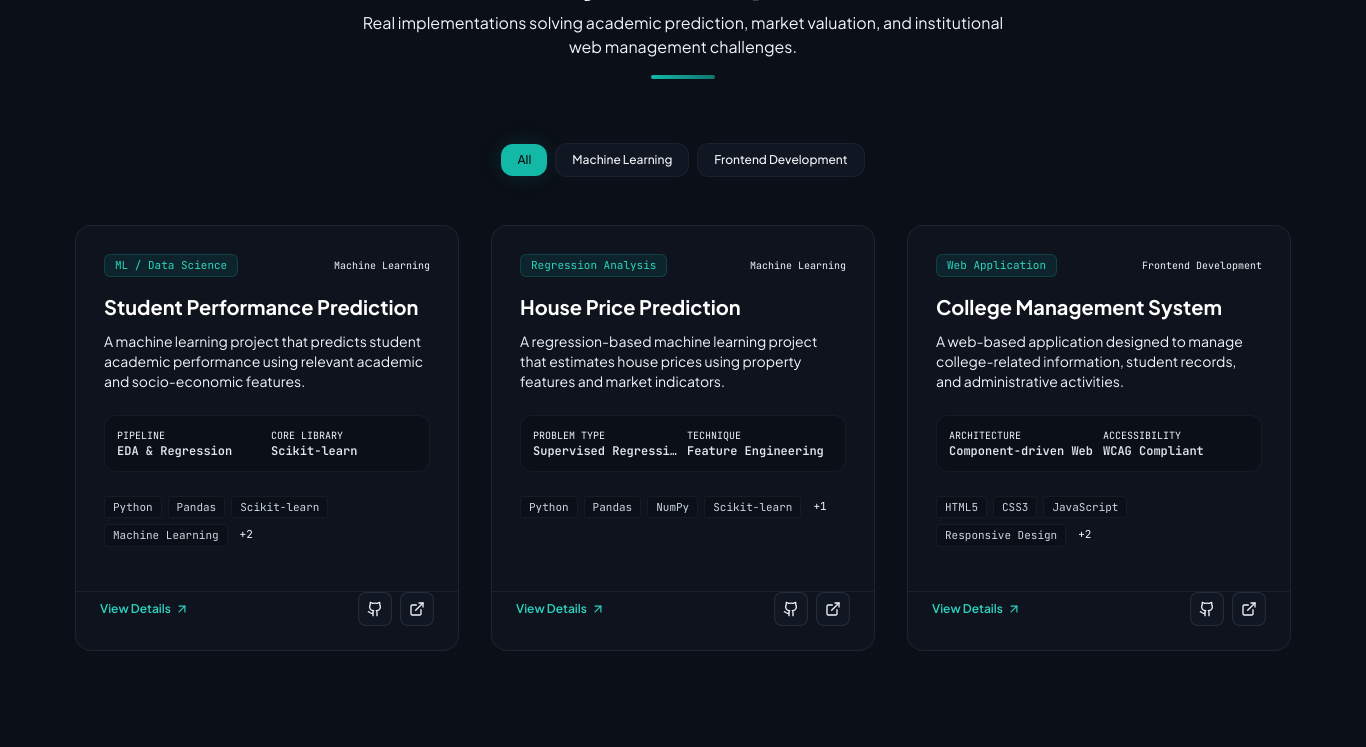
it: Khan Sher Portfolio - Multi-Page Routing & Verification Suite › 3. Projects Filtering & Modal Interactions › opens project modal on "View Details" click and closes when close button is clicked
This screenshot has width=1366, height=747.
(page scrolled)
Click the button "View Details" below "EDA & Regression" at coordinates (144, 608), box [100,592,189,624]
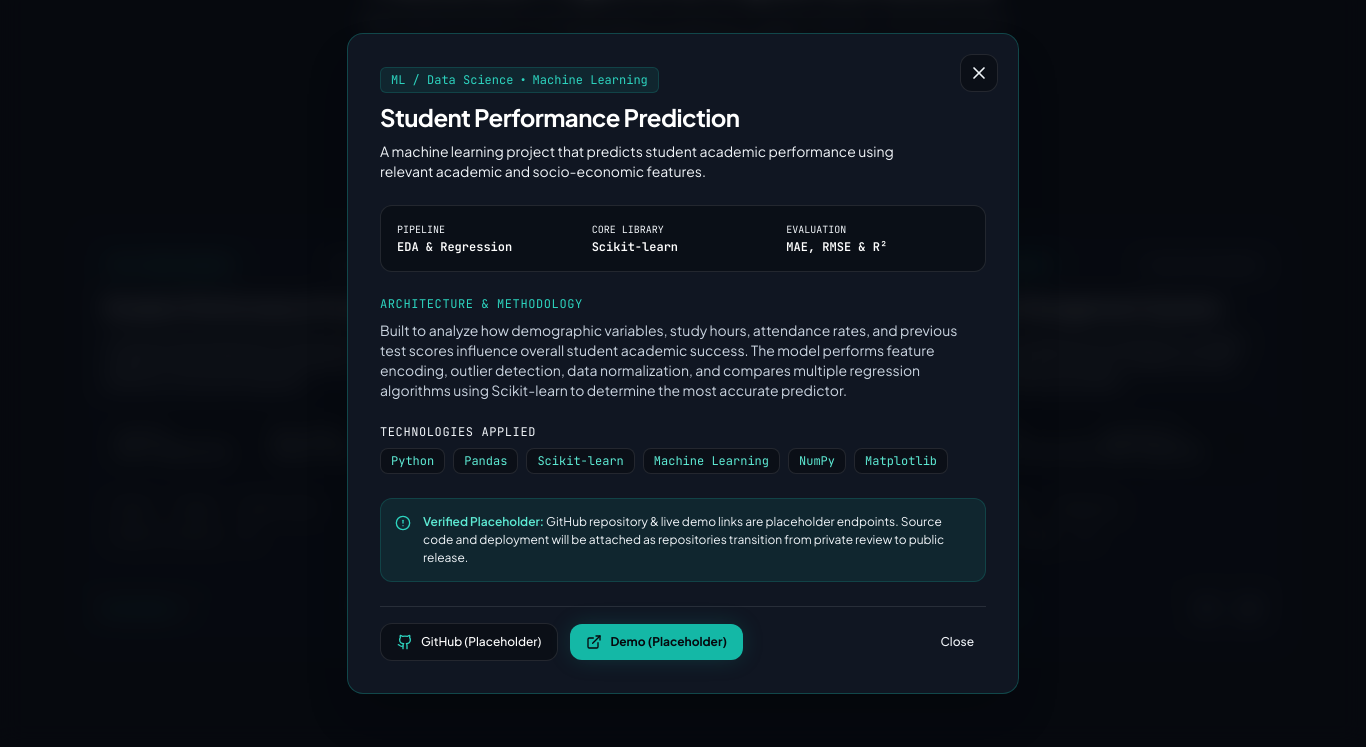
Expected: the dialog is shown, [347,32,1019,694]
Expected: the heading "Architecture & Methodology" is shown, [380,296,583,312]
Click the button named "Close modal" at coordinates (979, 72), box [960,54,998,92]
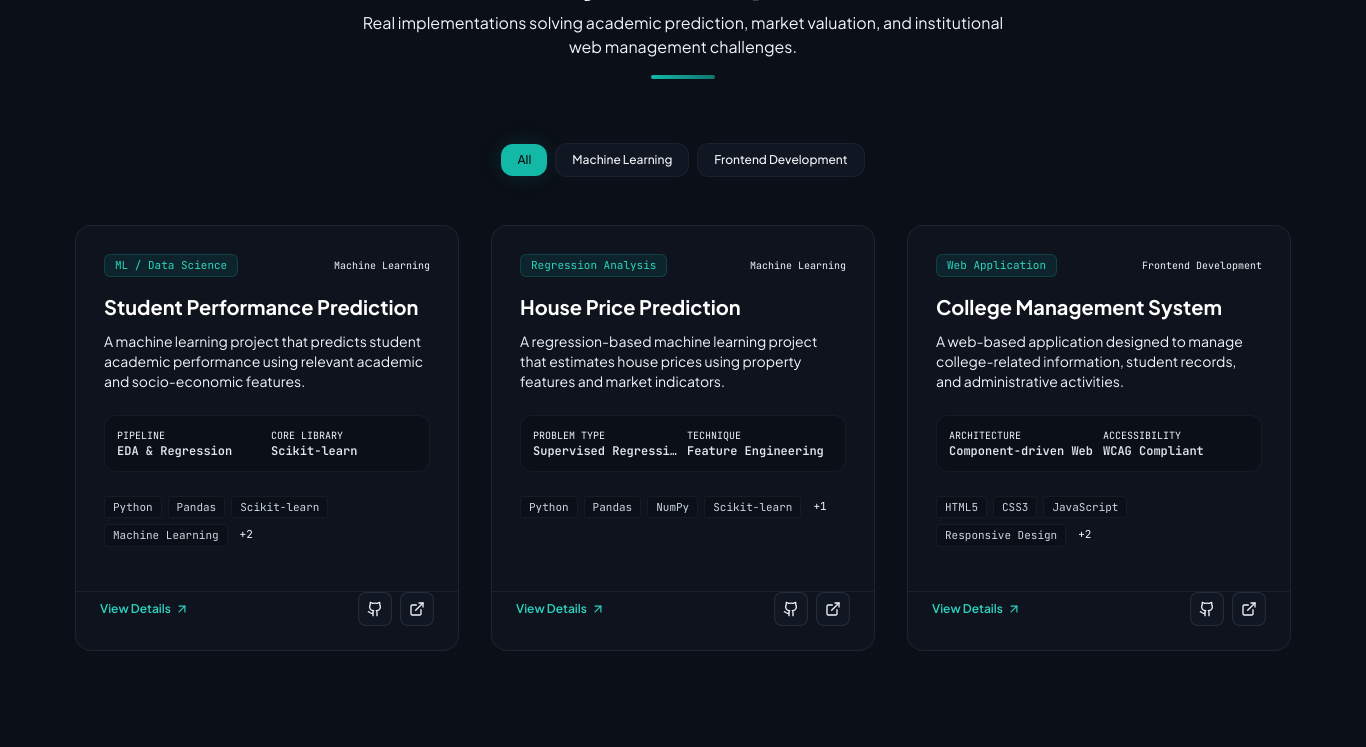
Expected: the dialog is gone
